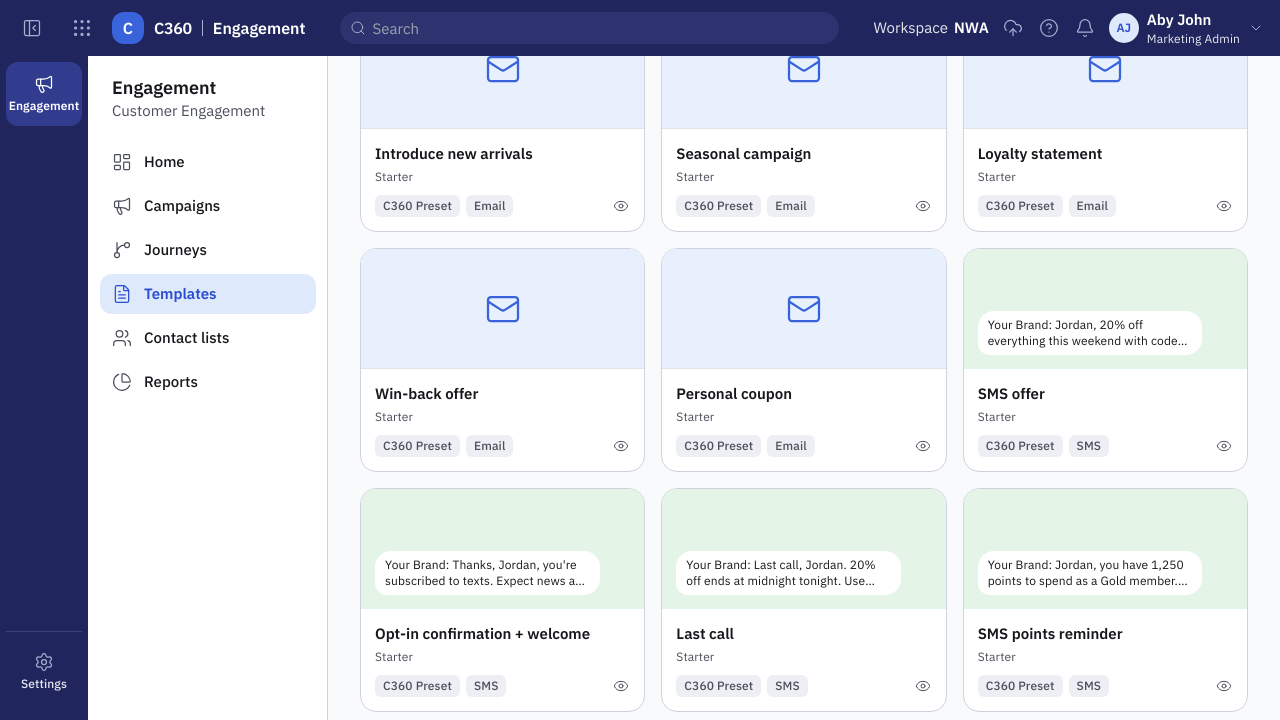
clicking a preset card opens its preview, not a copy; the footer offers the copy and no edited time
The width and height of the screenshot is (1280, 720).
(page scrolled)
Check: the text "SMS offer" is shown, box [978,384,1045,403]
Click the button with aria-label "SMS offer, C360 Preset".
click(1105, 360)  # box [963,248,1248,472]
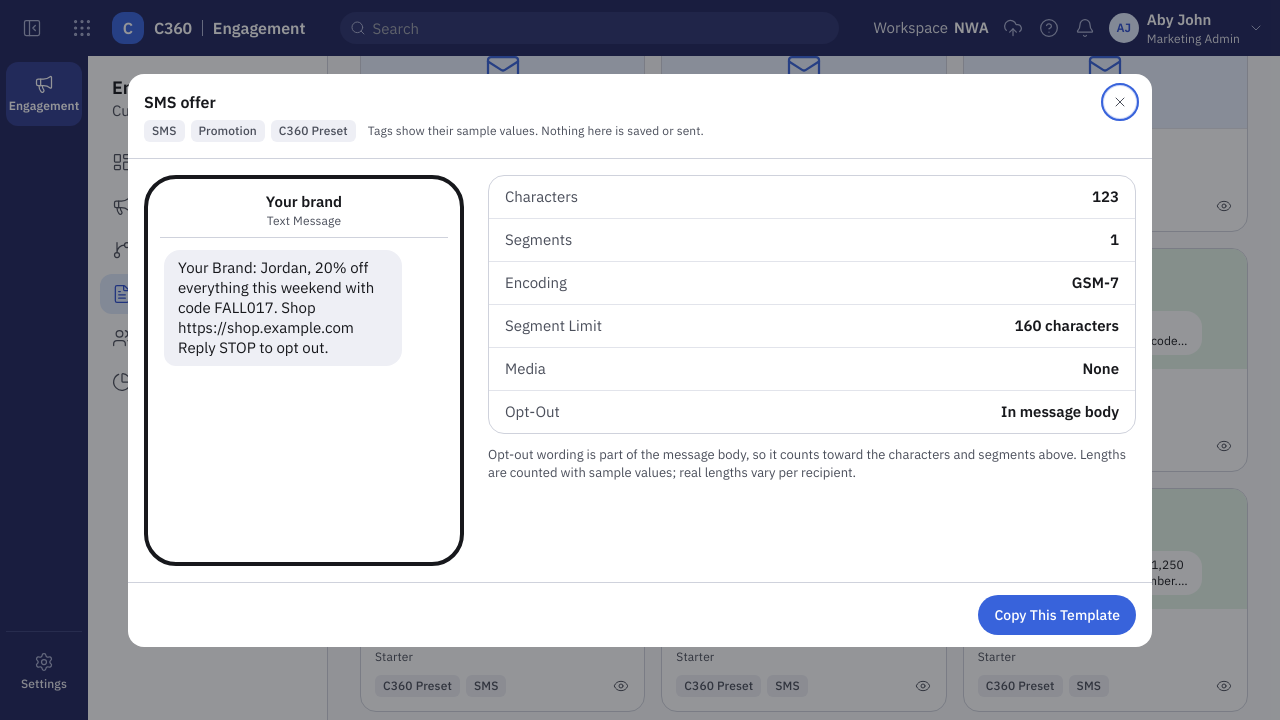
Check: the button "Copy This Template" is shown, box [978,594,1136,634]
